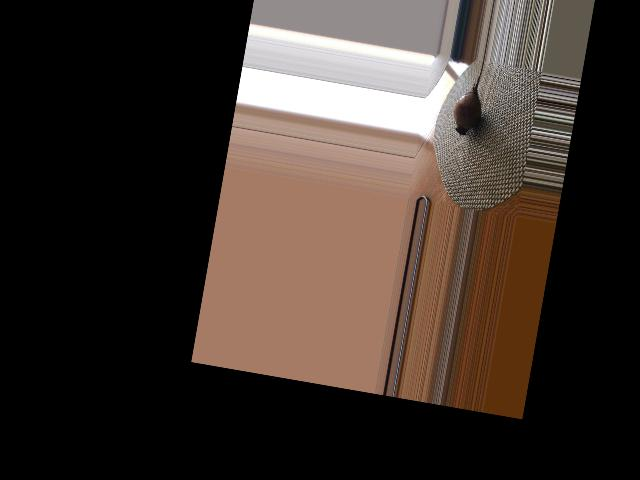beet: (450, 58, 489, 137)
